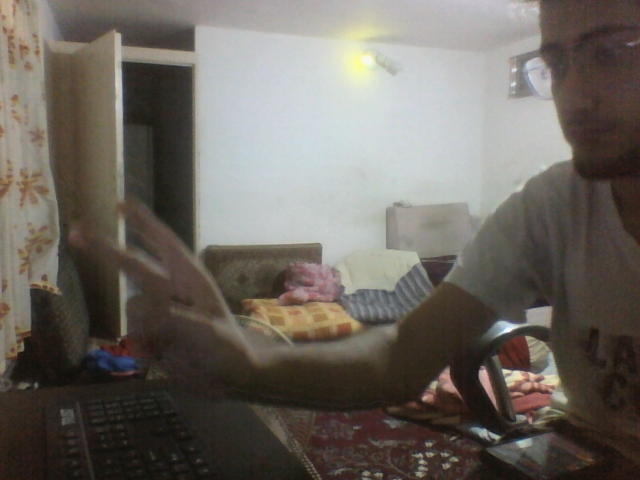Azadi: (57, 198, 254, 392)
sorat: (532, 2, 640, 181)
